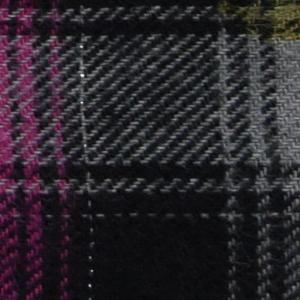Stain: (212, 1, 300, 48)
